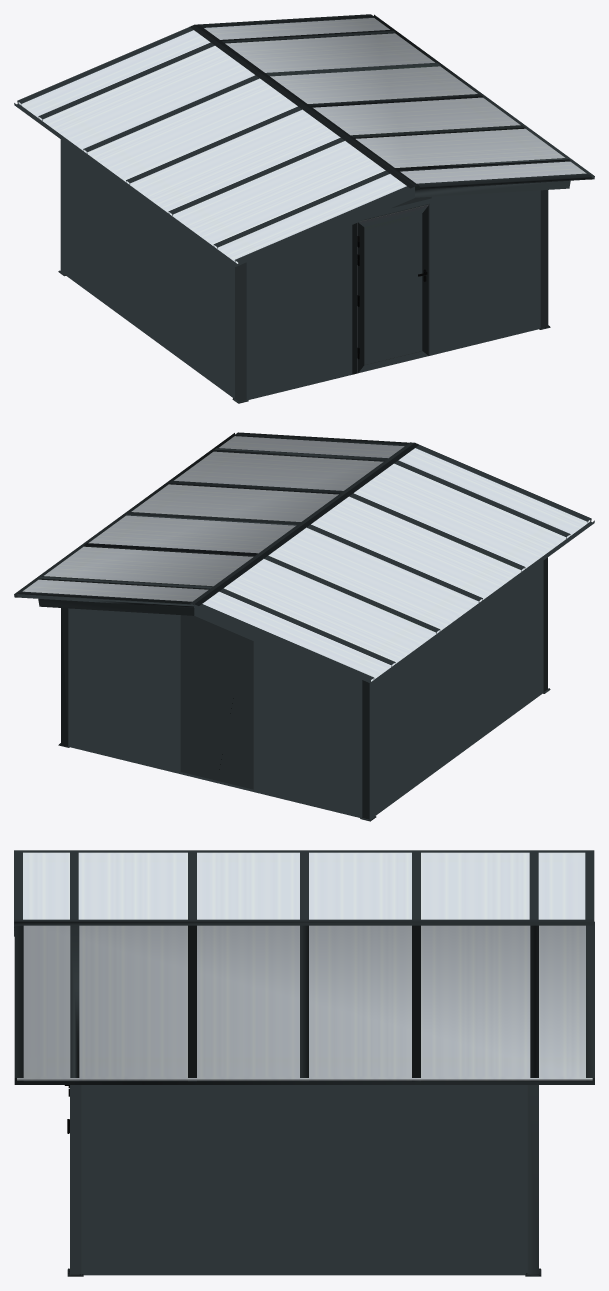
The picture shows the model from 3 angles, top to bottom: view 1: azimuth 30°, elevation 25°; view 2: azimuth 150°, elevation 25°; view 3: azimuth 270°, elevation 25°; orthographic projection. The views are drawn at different scales.
Parts seen in each view (by area): view 1: priximbattable_net_abris_de_jardin_640003_abri_de_jardin_lys, folha, porta_1; view 2: priximbattable_net_abris_de_jardin_640003_abri_de_jardin_lys; view 3: priximbattable_net_abris_de_jardin_640003_abri_de_jardin_lys.
Part boxes in pixels (x1,y1,x2,y2): priximbattable_net_abris_de_jardin_640003_abri_de_jardin_lys: (14,14,594,403); folha: (357,205,428,373); porta_1: (352,198,433,374); priximbattable_net_abris_de_jardin_640003_abri_de_jardin_lys: (14,432,594,821); priximbattable_net_abris_de_jardin_640003_abri_de_jardin_lys: (14,850,594,1276).
Bounding box in the file's own units: 489 × 252 × 521.
1 material, 1 textured.
